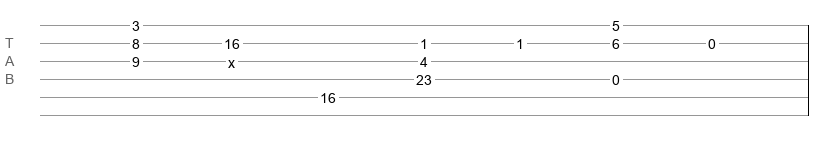0: (612, 72, 620, 82), (708, 36, 716, 46)
1: (420, 36, 428, 46), (516, 36, 524, 46)
16: (224, 36, 240, 46), (320, 90, 336, 100)
23: (416, 72, 432, 82)
3: (132, 18, 140, 28)
4: (420, 54, 428, 64)
5: (612, 18, 620, 28)
6: (612, 36, 620, 46)
8: (132, 36, 140, 46)
9: (132, 54, 140, 64)
x: (228, 55, 235, 63)
